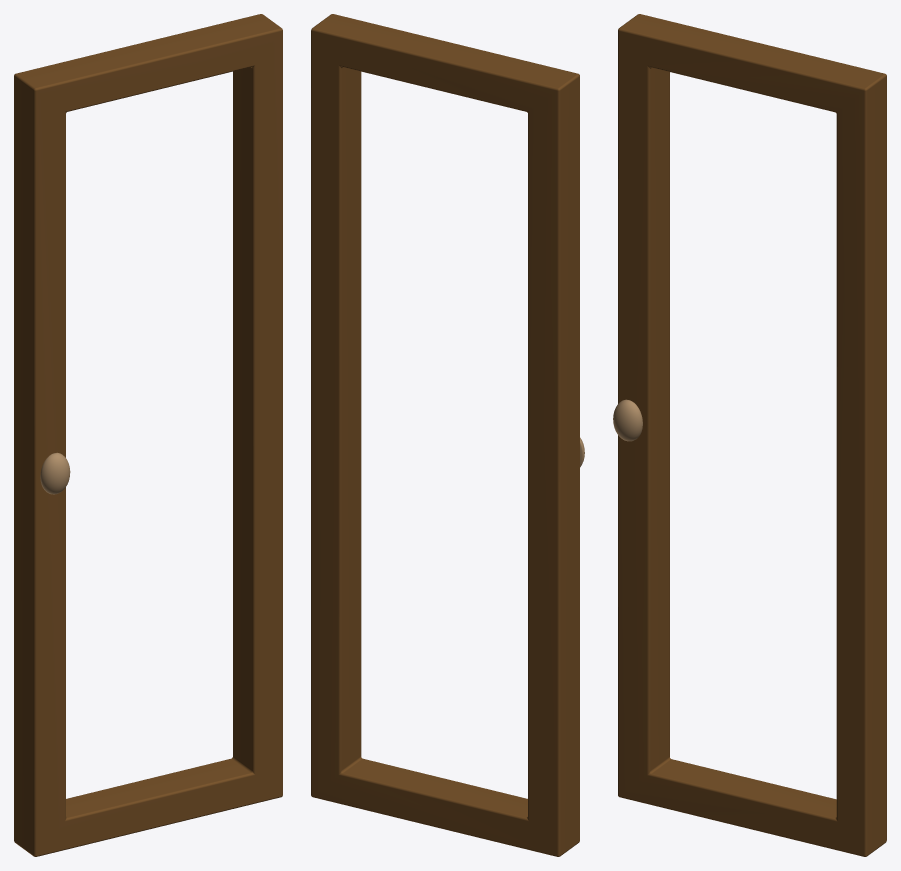
The model's file is SM_Shelf_Wood_04_Door_R.fbx.
3 views of the same model, side by side, from view 1: azimuth 30°, elevation 25°; view 2: azimuth 150°, elevation 25°; view 3: azimuth 330°, elevation 25° (orthographic).
Visible parts, largest first — view 1: Cube.032, Sphere.003; view 2: Cube.032; view 3: Cube.032, Sphere.003.
Part boxes in pixels (x1=…): Cube.032: x1=14, y1=14, x2=282, y2=856; Sphere.003: x1=40, y1=452, x2=70, y2=494; Cube.032: x1=311, y1=14, x2=579, y2=856; Cube.032: x1=618, y1=14, x2=886, y2=856; Sphere.003: x1=613, y1=399, x2=642, y2=441.
Bounding box in the file's own units: 59.67 × 176 × 13.41.
